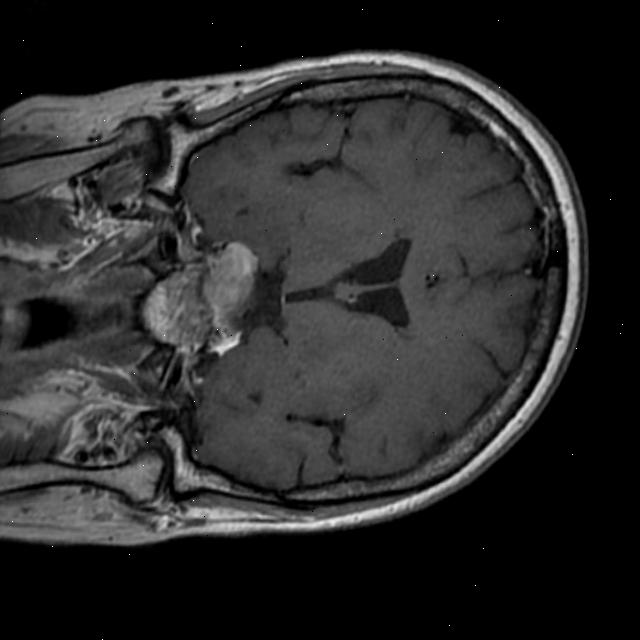Pituitary: (137, 237, 259, 359)
